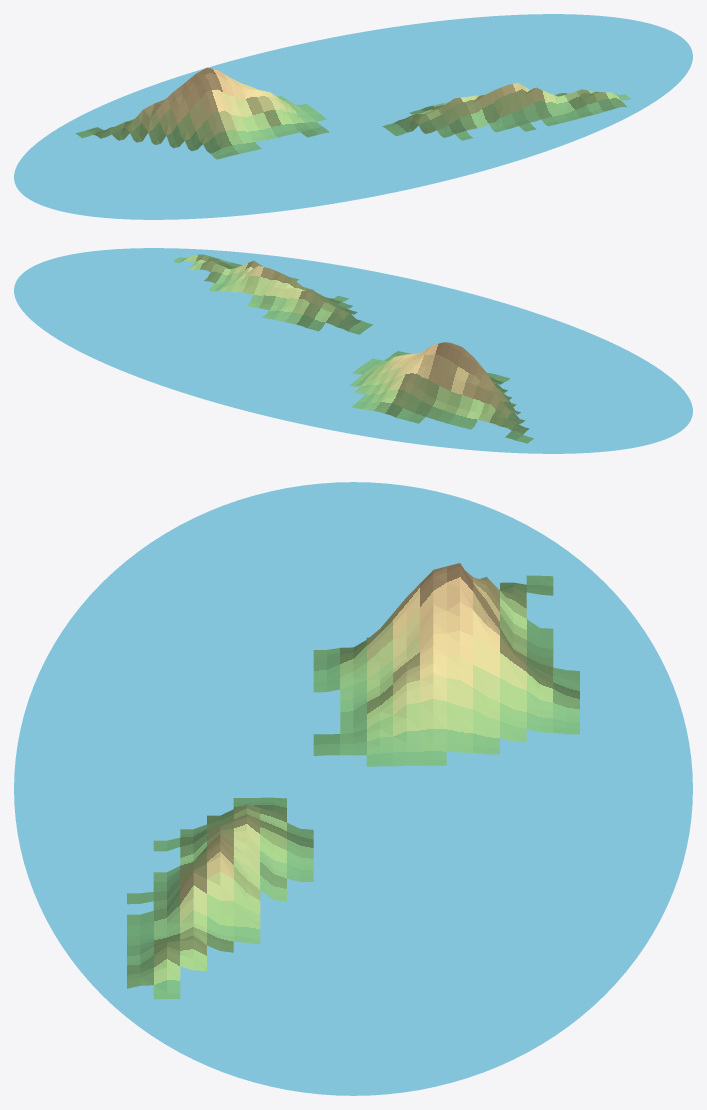
The model's file is WSM-terrain.glb.
The picture shows the model from 3 angles, top to bottom: view 1: azimuth 30°, elevation 25°; view 2: azimuth 150°, elevation 25°; view 3: azimuth 270°, elevation 25°; orthographic projection. The views are drawn at different scales.
Parts seen in each view (by area): view 1: Relevo com hidrografia; view 2: Relevo com hidrografia; view 3: Relevo com hidrografia.
Part boxes in pixels (x1,y1,x2,y2): Relevo com hidrografia: [14, 14, 692, 219]; Relevo com hidrografia: [14, 248, 692, 453]; Relevo com hidrografia: [14, 482, 692, 1095].
Size of the model in its own units: 2.4 by 0.2038 by 1.12.
2 materials, 1 textured.
